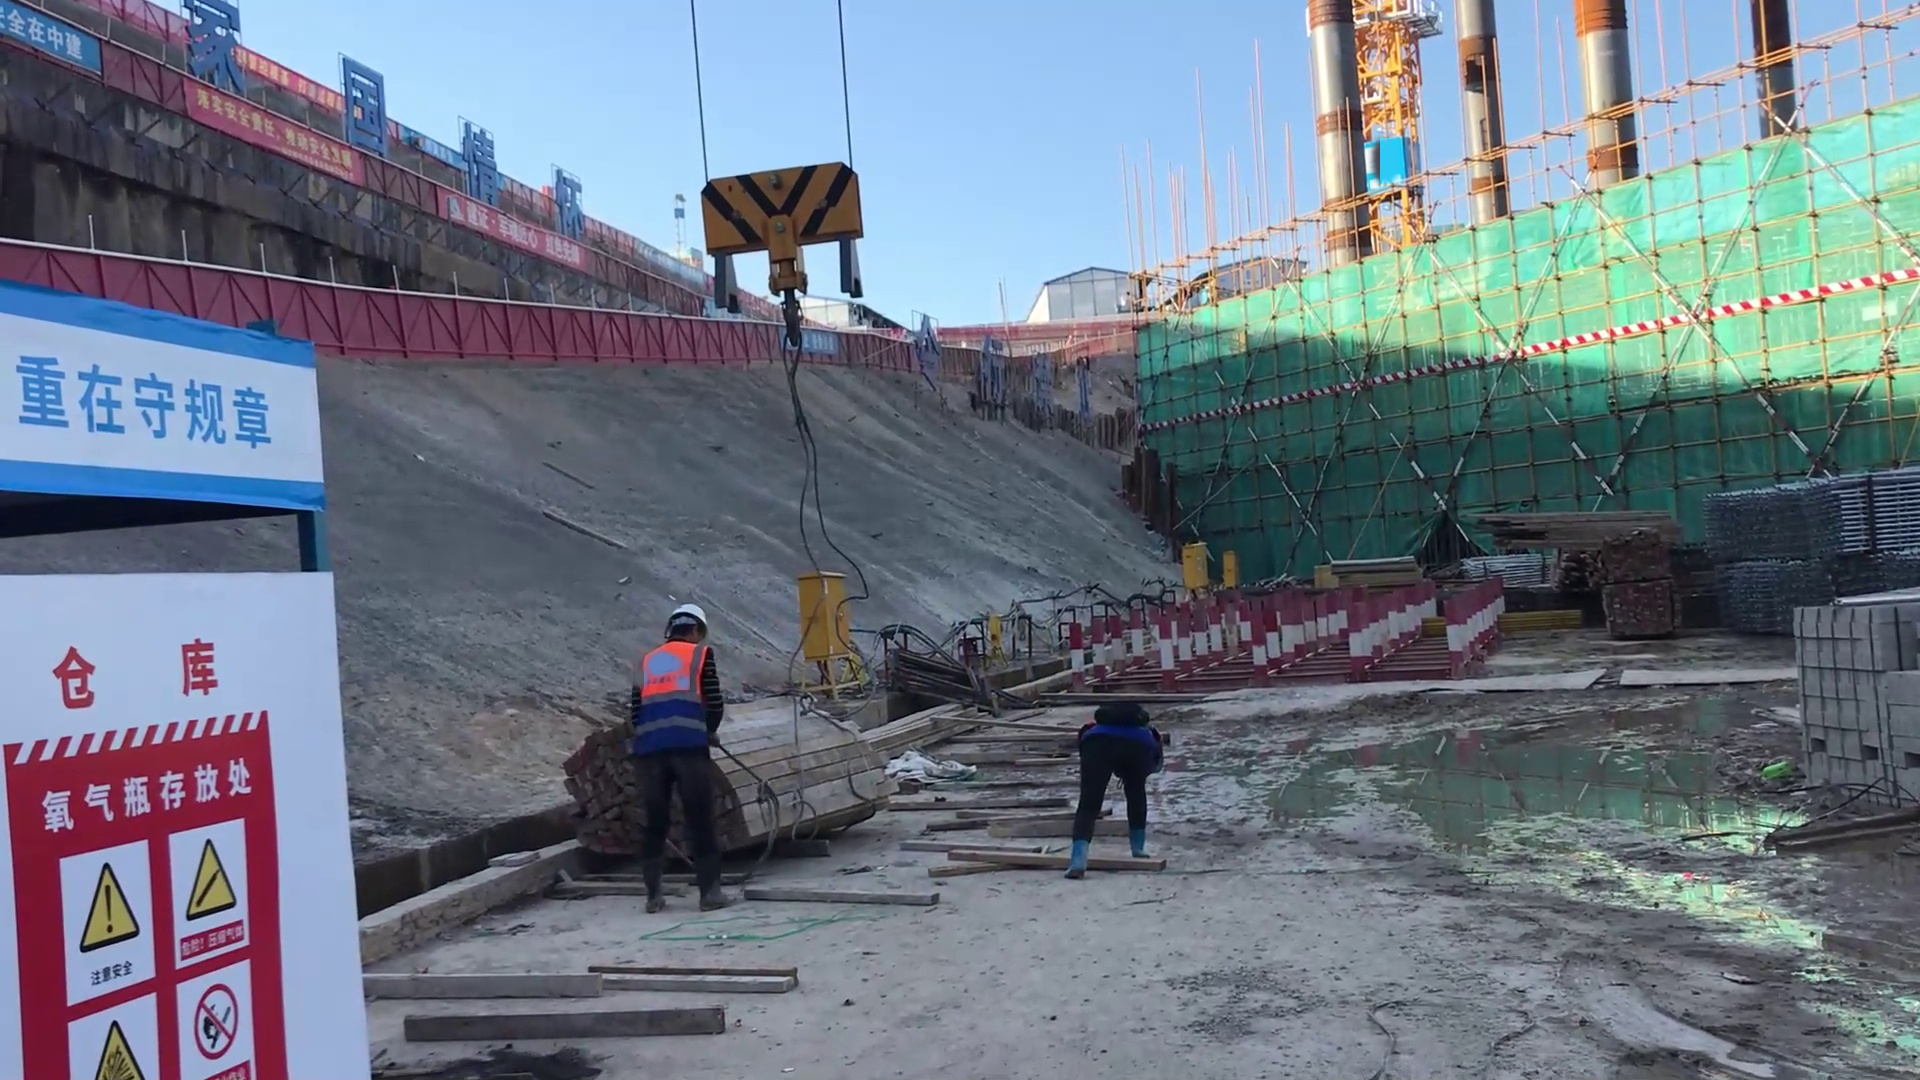brick: (1785, 596, 1920, 824)
ebox: (786, 564, 881, 657), (1180, 543, 1208, 596), (1217, 548, 1244, 594)
fence: (296, 278, 591, 371), (591, 302, 788, 363)
helmet: (658, 602, 721, 649)
hook: (695, 141, 867, 311)
person: (617, 591, 746, 916), (1062, 703, 1167, 879)
scaffold: (1695, 475, 1908, 557)
slogan: (8, 676, 352, 1080), (10, 345, 281, 479), (174, 59, 367, 206), (6, 1, 117, 98)
vest: (635, 639, 709, 699)
wood: (738, 692, 899, 855), (1470, 501, 1652, 559)
